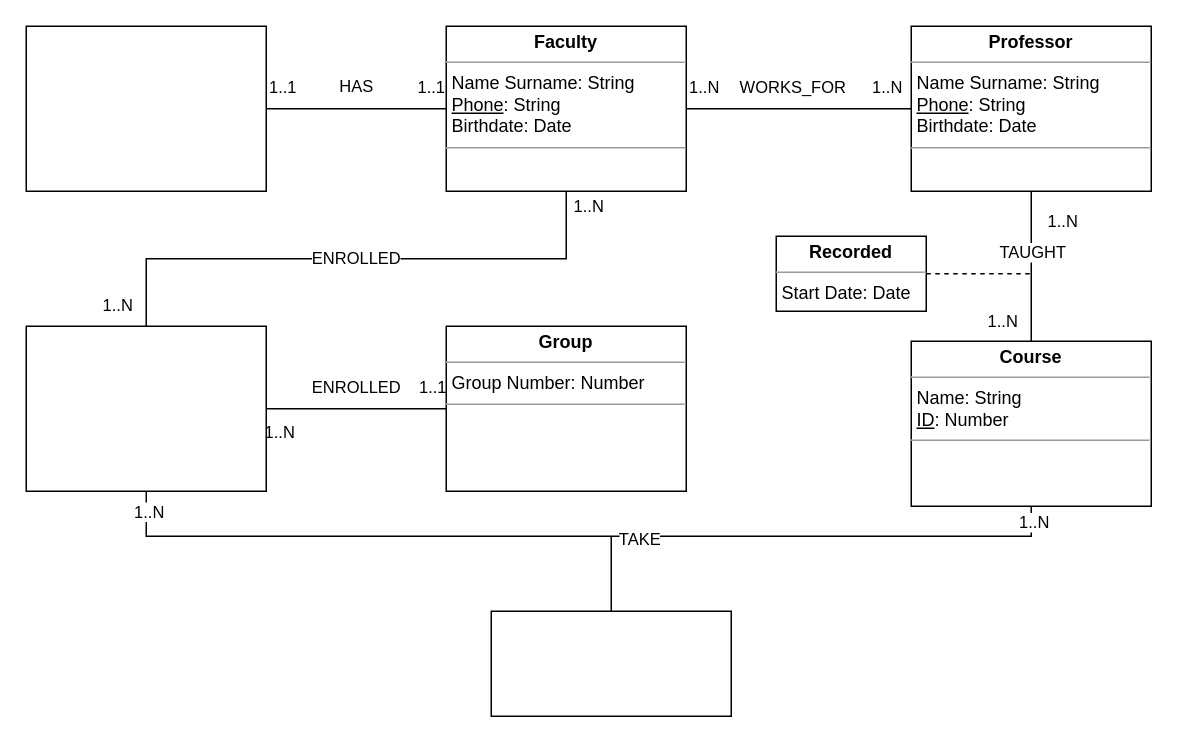
Image size: 1178x743. Some labels were removed from this diagram. The centre of each missing label's shape, as x and y in pixels:
Attempt to pass Numerical grade: Number Datetime: Date: the point at 610,663
Director Name Surname: String Phone : String Birthdate: Date: the point at 145,108
Student Name Surname: String Phone : String Birthdate: Date: the point at 145,408
